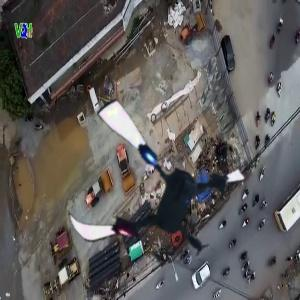drone: (55, 96, 244, 285)
